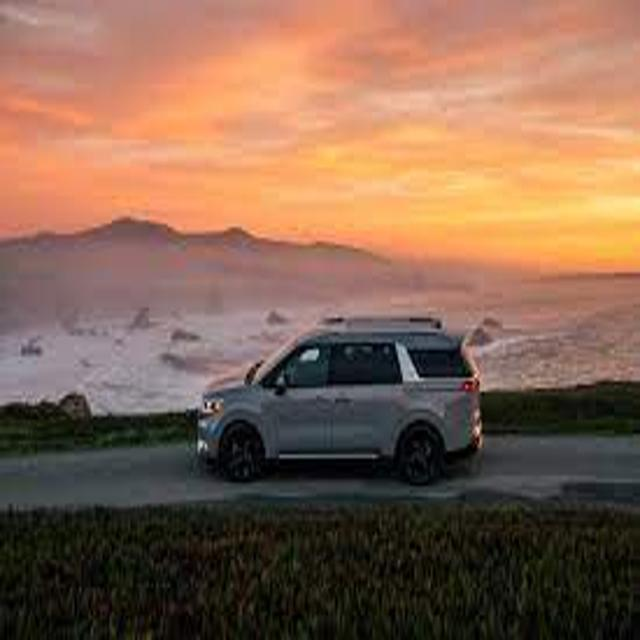car: (196, 317, 482, 484)
